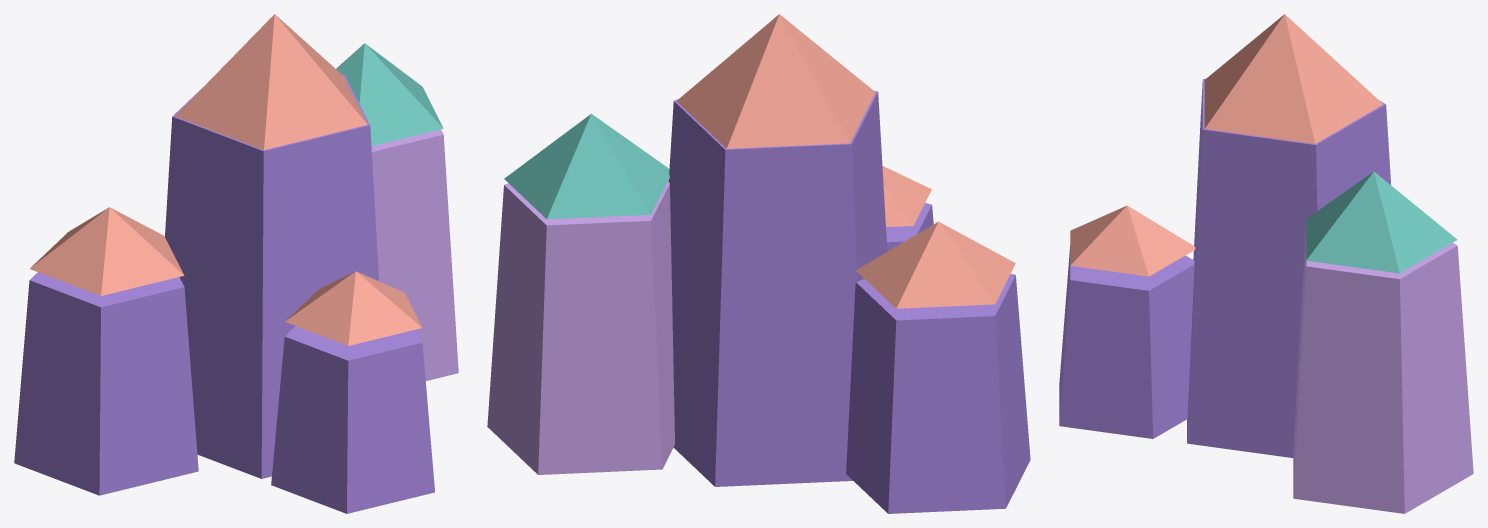
Rendered from crystal.glb.
The picture shows the model from 3 angles, left to right: view 1: azimuth 30°, elevation 25°; view 2: azimuth 150°, elevation 25°; view 3: azimuth 270°, elevation 25°; orthographic projection. The views are drawn at different scales.
Parts seen in each view (by area): view 1: Prism, Prism.001, Prism.003, Prism.002, Crystal tip, Crystal tip.001, Crystal tip.003, Crystal tip.002; view 2: Prism, Prism.002, Prism.001, Crystal tip, Crystal tip.002, Crystal tip.001, Crystal tip.003, Prism.003; view 3: Prism.002, Prism, Prism.003, Crystal tip, Crystal tip.002, Crystal tip.003.
Boxes of the visible parts, left/top/right/bottom form: Prism: left=165, top=74, right=378, bottom=478; Prism.001: left=14, top=272, right=198, bottom=495; Prism.003: left=271, top=326, right=434, bottom=513; Prism.002: left=371, top=129, right=458, bottom=380; Crystal tip: left=175, top=14, right=367, bottom=149; Crystal tip.001: left=30, top=207, right=184, bottom=295; Crystal tip.003: left=285, top=271, right=422, bottom=345; Crystal tip.002: left=336, top=43, right=443, bottom=146; Prism: left=668, top=91, right=887, bottom=486; Prism.002: left=487, top=180, right=674, bottom=474; Prism.001: left=846, top=274, right=1030, bottom=513; Crystal tip: left=677, top=14, right=875, bottom=148; Crystal tip.002: left=504, top=113, right=669, bottom=219; Crystal tip.001: left=856, top=221, right=1015, bottom=308; Crystal tip.003: left=882, top=166, right=931, bottom=226; Prism.003: left=886, top=203, right=933, bottom=251; Prism.002: left=1293, top=225, right=1473, bottom=513; Prism: left=1187, top=78, right=1390, bottom=457; Prism.003: left=1059, top=245, right=1194, bottom=438; Crystal tip: left=1204, top=14, right=1383, bottom=143; Crystal tip.002: left=1306, top=171, right=1457, bottom=273; Crystal tip.003: left=1070, top=205, right=1195, bottom=276.
Bounding box in the file's own units: 0.9819 × 0.84 × 0.7894.
